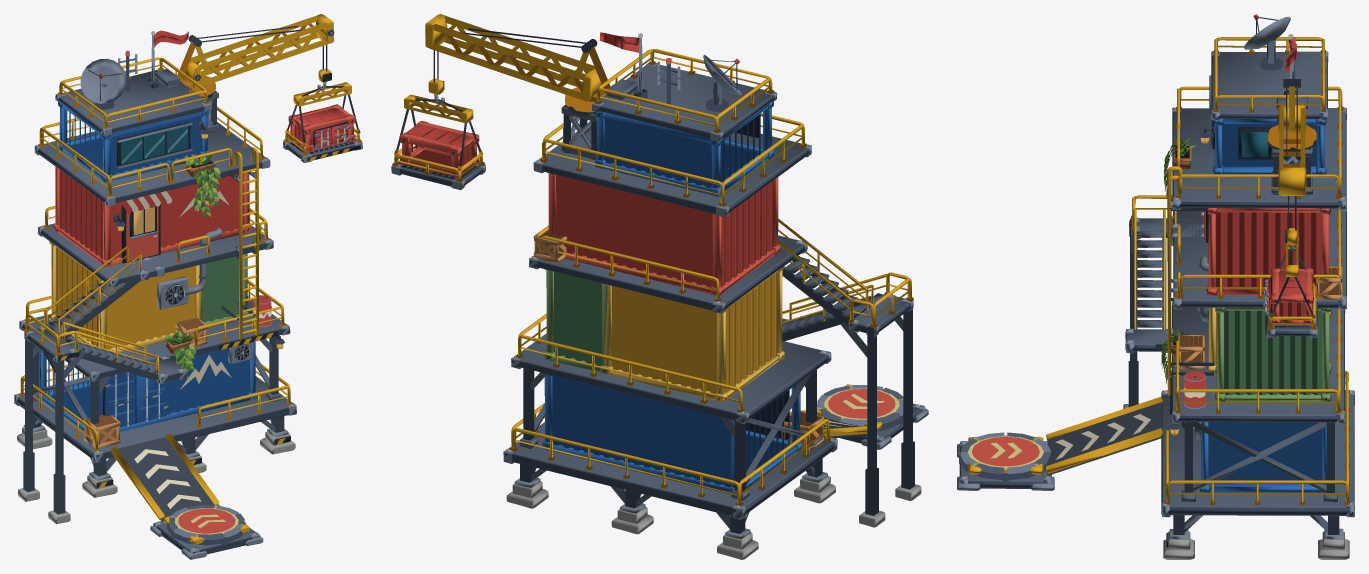
The model's file is container_tower_a.glb.
3 views of the same model, side by side, from view 1: azimuth 30°, elevation 25°; view 2: azimuth 150°, elevation 25°; view 3: azimuth 270°, elevation 25° (orthographic). The views are drawn at different scales.
Visible parts, largest first — view 1: container_tower_a; view 2: container_tower_a; view 3: container_tower_a.
Boxes of the visible parts, box(x1,y1,x2,y2) form: container_tower_a: box(14, 14, 362, 559); container_tower_a: box(391, 14, 928, 559); container_tower_a: box(957, 14, 1354, 559).
Size of what is drawn, in the model's own units: 0.9584 by 1 by 0.7599.
